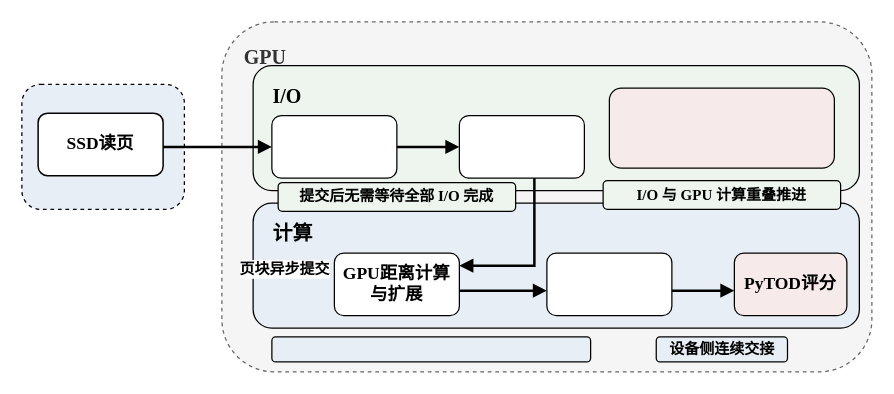
Image size: 894x394. Some labels were removed from this diagram. The shapes that lost their labels are listed below. From the top down, each one's centre as x and y in pixels, then its label:
At point 334,146: "异步I/O队列".
At point 521,146: "GPU接收".
At point 721,127: "候选不回CPU 连续传递到评分模块".
At point 609,284: "GPU候选缓存 (ID / distance / rank)".
At point 431,349: "页到达后即可触发局部距离计算和候选扩展".
